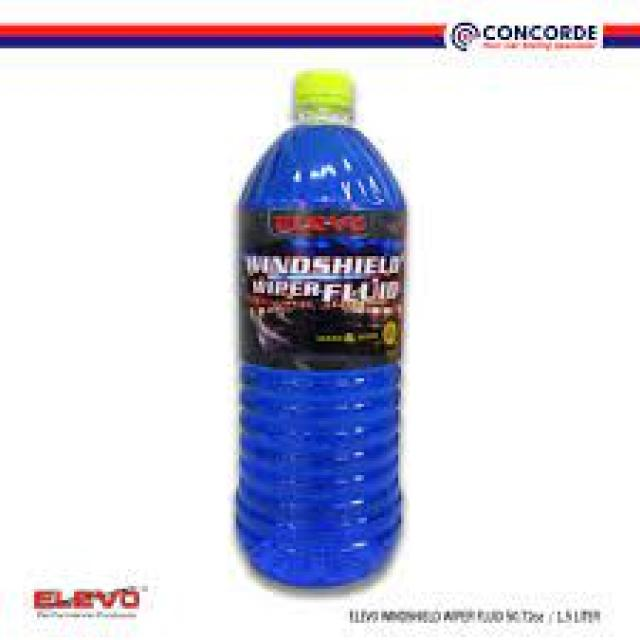winwinshield_washer: (230, 67, 410, 601)
